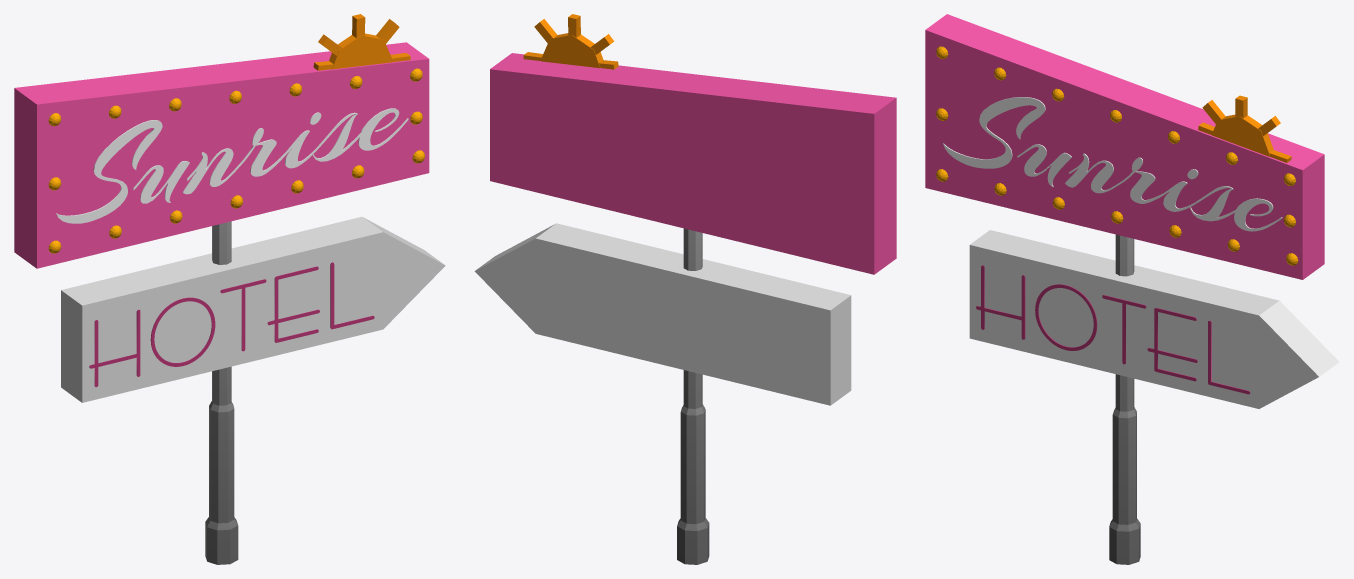
File: Hotel_sign_01.fbx
The picture shows the model from 3 angles, left to right: view 1: azimuth 30°, elevation 25°; view 2: azimuth 150°, elevation 25°; view 3: azimuth 330°, elevation 25°; orthographic projection. The views are drawn at different scales.
Parts seen in each view (by area): view 1: Hotel_sign_01; view 2: Hotel_sign_01; view 3: Hotel_sign_01.
Boxes of the visible parts, left/top/right/bottom form: Hotel_sign_01: left=14, top=14, right=445, bottom=564; Hotel_sign_01: left=474, top=14, right=896, bottom=564; Hotel_sign_01: left=925, top=14, right=1339, bottom=564.
Bounding box in the file's own units: 209 × 251 × 22.6.
